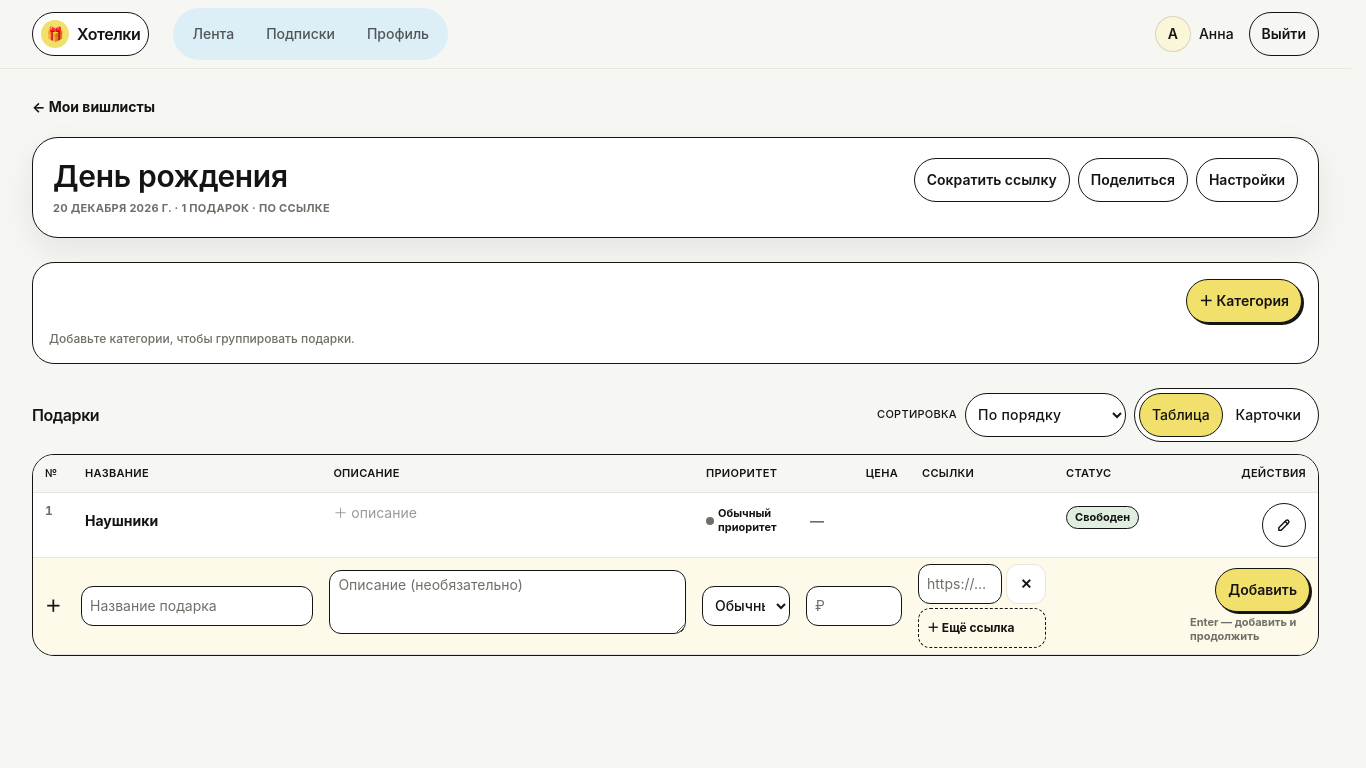
Test: строка добавления в таблице › пустое название не отправляется и показывает подсказку
expect the text "Наушники" is shown: met, box top-left (85, 511), bottom-right (158, 531)
Click the button "Добавить" at x=1263, y=590, box top-left (1215, 568), bottom-right (1310, 612)
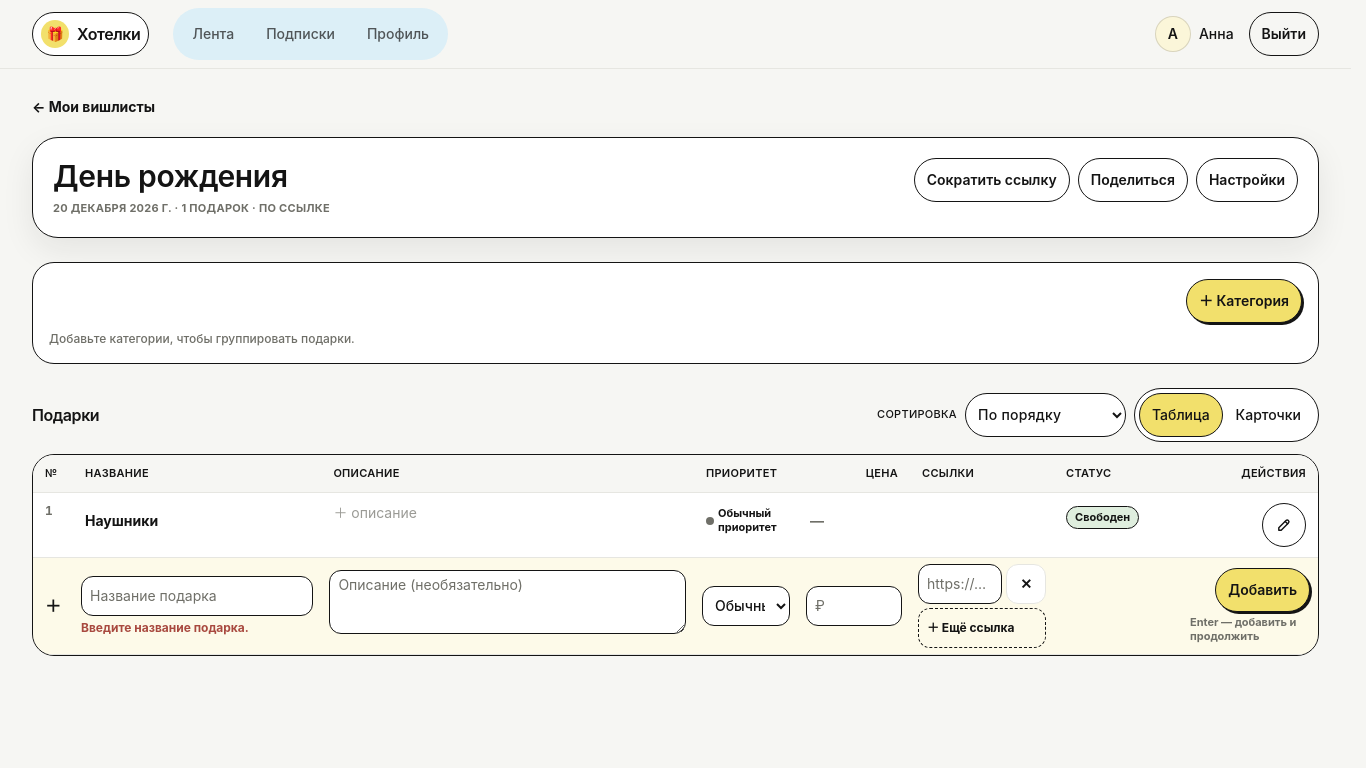
expect the text "Введите название подарка." is shown: met, box top-left (81, 620), bottom-right (249, 635)
